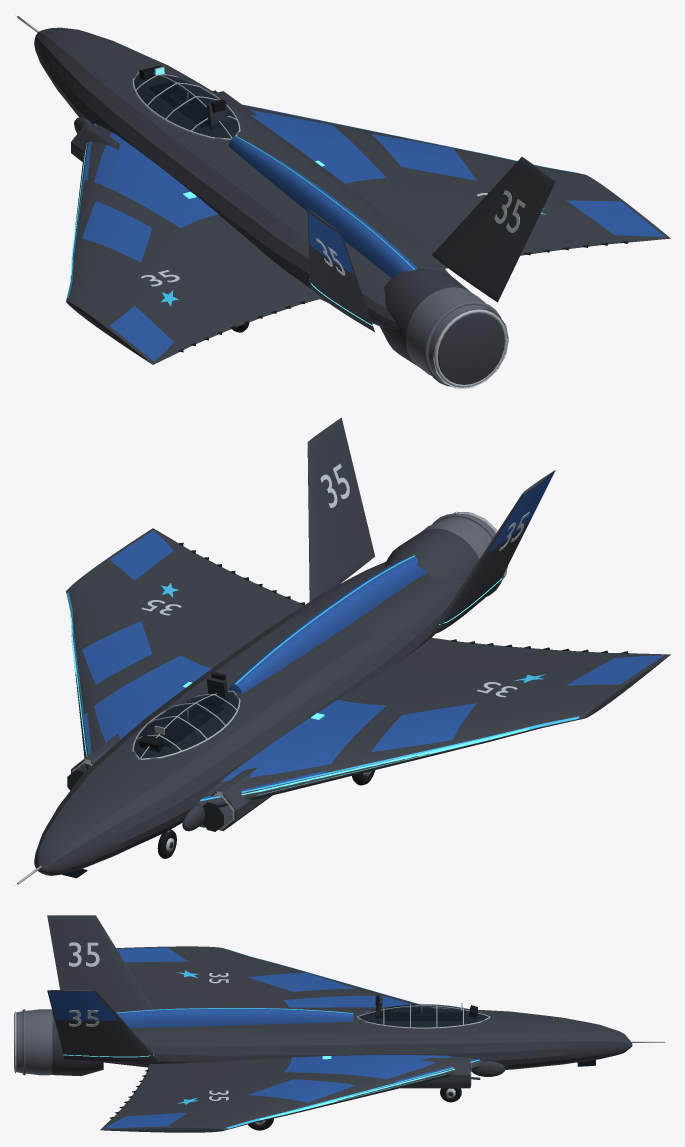
File: showcase.glb
3 renders of one model, top to bottom at view 1: azimuth 30°, elevation 25°; view 2: azimuth 150°, elevation 25°; view 3: azimuth 270°, elevation 25°, orthographic. The views are drawn at different scales.
Parts seen in each view (by area): view 1: showcase_body_Paint_Base, showcase_body_Paint_Secondary, showcase_body_Canopy_Glass, showcase_body_Metal_Heat, showcase_body_Metal_Detail, showcase_body_Paint_Dark, showcase_body_Paint_Accent, showcase_body_Paint_Marking, showcase_body_Paint_Structural; view 2: showcase_body_Paint_Base, showcase_body_Paint_Secondary, showcase_body_Canopy_Glass, showcase_body_Paint_Accent, showcase_body_Paint_Dark, showcase_body_Metal_Detail, showcase_body_Metal_Heat, showcase_body_Glow_Emit, showcase_body_Paint_Structural, showcase_body_Paint_Marking; view 3: showcase_body_Paint_Base, showcase_body_Paint_Secondary, showcase_body_Metal_Heat, showcase_body_Canopy_Glass, showcase_body_Paint_Accent, showcase_body_Metal_Detail, showcase_body_Paint_Marking, showcase_body_Paint_Dark, showcase_body_Glow_Emit, showcase_gear_Paint_Dark, showcase_body_Paint_Structural.
Part boxes in pixels (bbox=[...]): showcase_body_Paint_Base: bbox=[34, 27, 670, 384]; showcase_body_Paint_Secondary: bbox=[82, 104, 664, 361]; showcase_body_Canopy_Glass: bbox=[133, 73, 239, 138]; showcase_body_Metal_Heat: bbox=[405, 287, 501, 386]; showcase_body_Metal_Detail: bbox=[14, 14, 508, 388]; showcase_body_Paint_Dark: bbox=[139, 66, 628, 352]; showcase_body_Paint_Accent: bbox=[67, 104, 579, 306]; showcase_body_Paint_Marking: bbox=[141, 190, 525, 286]; showcase_body_Paint_Structural: bbox=[168, 90, 228, 129]; showcase_body_Paint_Base: bbox=[34, 417, 670, 875]; showcase_body_Paint_Secondary: bbox=[82, 472, 664, 799]; showcase_body_Canopy_Glass: bbox=[133, 691, 239, 758]; showcase_body_Paint_Accent: bbox=[66, 555, 579, 803]; showcase_body_Paint_Dark: bbox=[139, 542, 628, 751]; showcase_body_Metal_Detail: bbox=[15, 511, 507, 885]; showcase_body_Metal_Heat: bbox=[421, 513, 503, 600]; showcase_body_Glow_Emit: bbox=[71, 578, 528, 795]; showcase_body_Paint_Structural: bbox=[67, 676, 228, 831]; showcase_body_Paint_Marking: bbox=[141, 463, 529, 697]; showcase_body_Paint_Base: bbox=[14, 915, 632, 1132]; showcase_body_Paint_Secondary: bbox=[48, 947, 478, 1128]; showcase_body_Metal_Heat: bbox=[16, 1009, 52, 1075]; showcase_body_Canopy_Glass: bbox=[358, 1004, 488, 1027]; showcase_body_Paint_Accent: bbox=[116, 949, 479, 1128]; showcase_body_Metal_Detail: bbox=[14, 1002, 665, 1084]; showcase_body_Paint_Marking: bbox=[69, 942, 228, 1100]; showcase_body_Paint_Dark: bbox=[109, 995, 477, 1118]; showcase_body_Glow_Emit: bbox=[63, 1054, 454, 1119]; showcase_gear_Paint_Dark: bbox=[248, 1088, 461, 1130]; showcase_body_Paint_Structural: bbox=[375, 997, 480, 1079].
Size of the model in its own units: 11 by 4.41 by 16.84.
